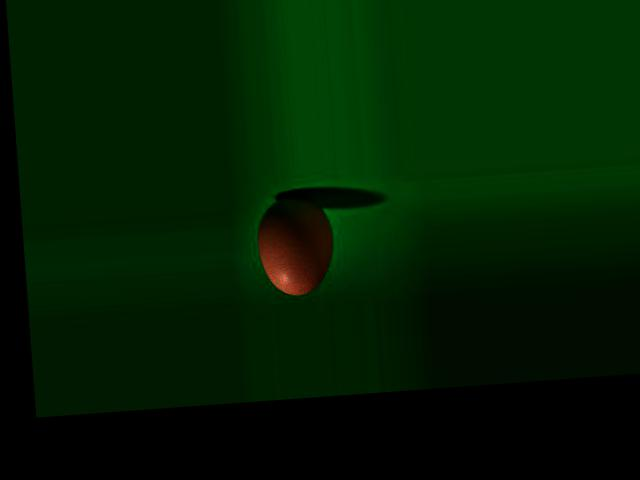egg: (254, 193, 337, 297)
